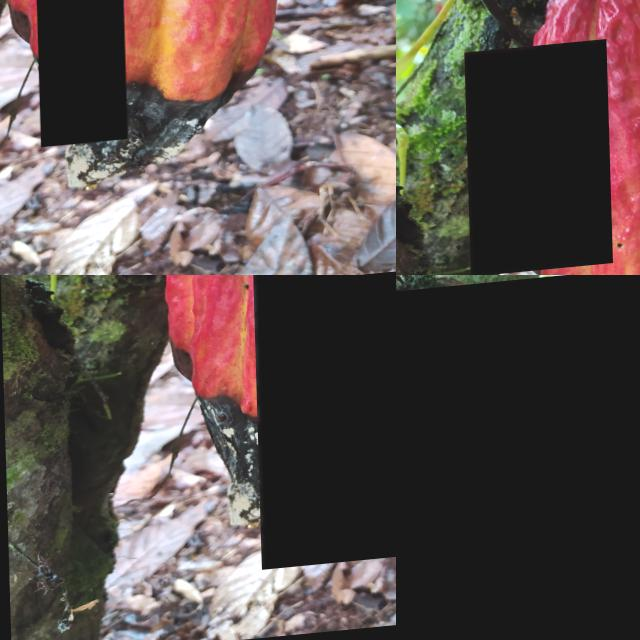Fitoftora: (248, 275, 396, 574), (34, 0, 124, 151)
Monilia: (396, 275, 640, 640)
Sana: (463, 44, 610, 275)
